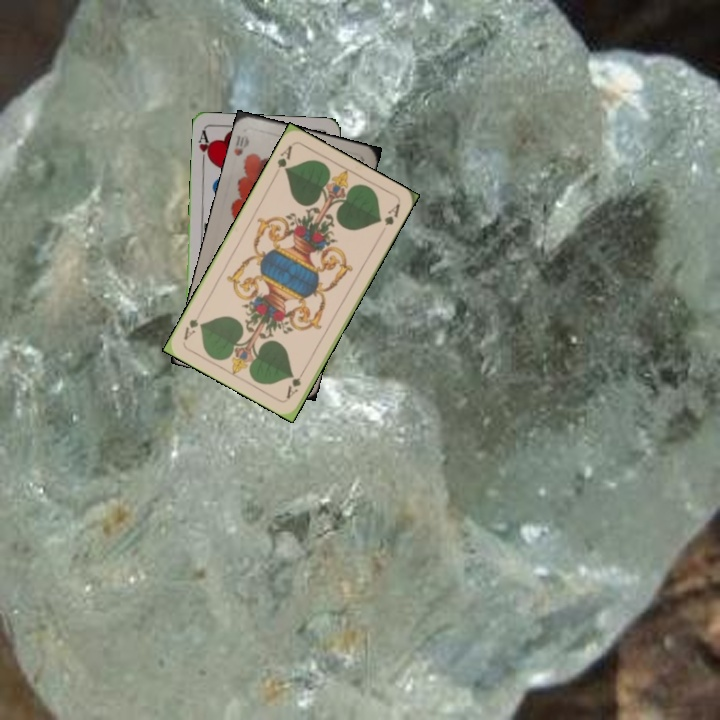GA: (282, 364, 308, 402), (273, 141, 295, 175)
H10: (230, 131, 252, 158)
HA: (195, 127, 214, 167)
